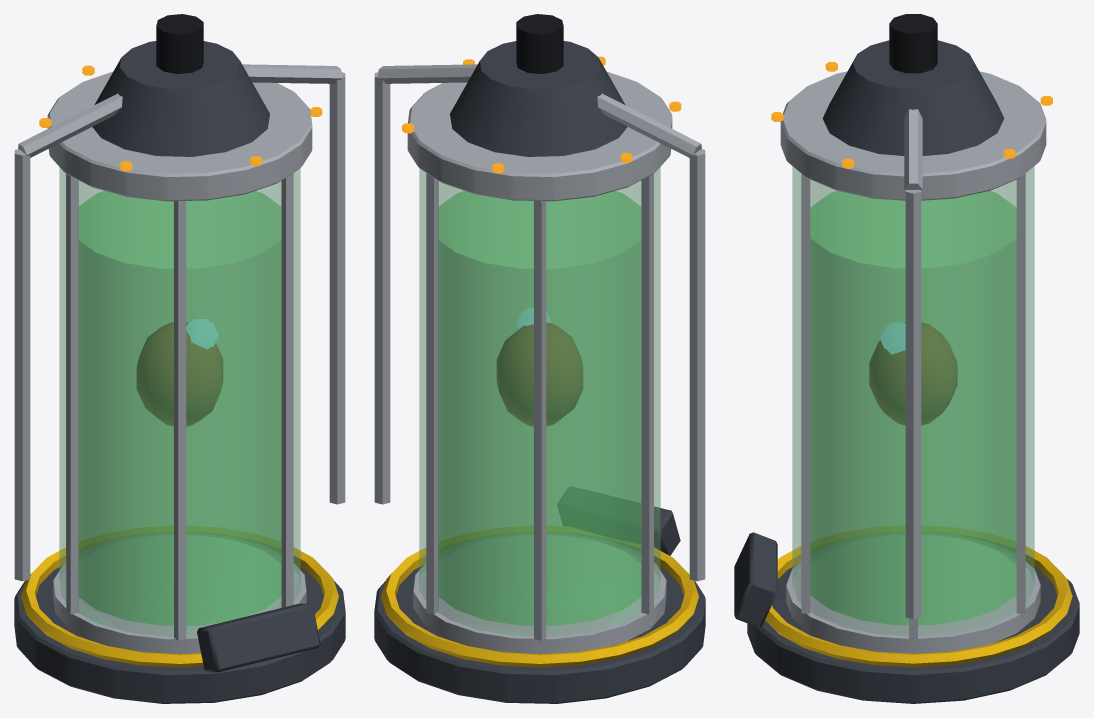
File: specimen_containment_cylinder.glb
The picture shows the model from 3 angles, left to right: view 1: azimuth 30°, elevation 25°; view 2: azimuth 150°, elevation 25°; view 3: azimuth 270°, elevation 25°; orthographic projection.
Parts seen in each view (by area): view 1: specimen_containment_cylinder; view 2: specimen_containment_cylinder; view 3: specimen_containment_cylinder.
Boxes of the visible parts, box(x1,y1,x2,y2) form: specimen_containment_cylinder: box(14, 14, 345, 703); specimen_containment_cylinder: box(374, 14, 705, 703); specimen_containment_cylinder: box(734, 14, 1079, 703).
Size of the model in its own units: 1.26 by 2.23 by 1.14.
